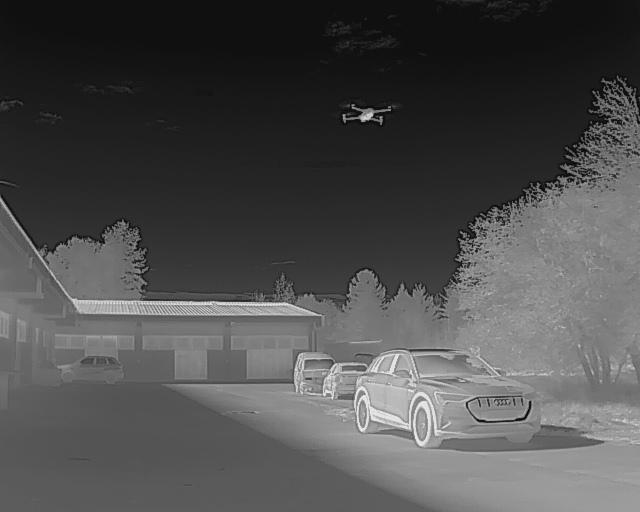drone: (331, 98, 402, 130)
